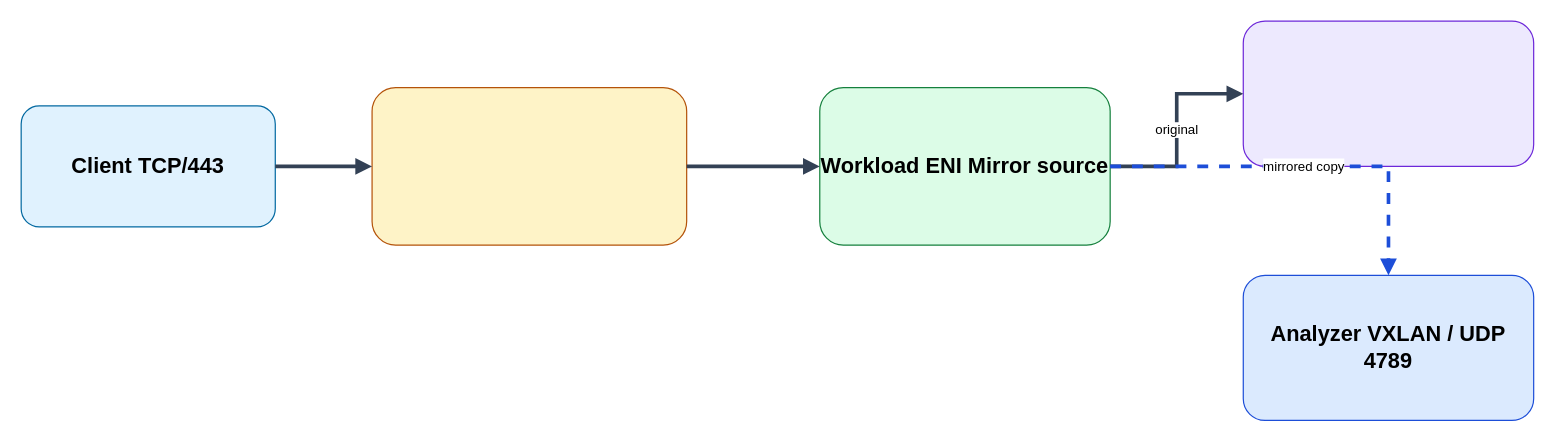
Image size: 1555x442. Some labels were removed from this diagram. The shapes that lost their labels are listed below. From the top down, each one's centre as x and y in pixels, then its label:
At [1388,93]: "Workload Receives packet".
At [529,166]: "Inbound VPC policy SG + NACL allow".
